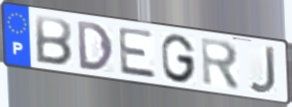B: (34, 14, 75, 68)
D: (75, 19, 116, 73)
E: (116, 26, 159, 81)
G: (159, 32, 198, 84)
J: (247, 45, 278, 96)
R: (199, 35, 242, 93)
